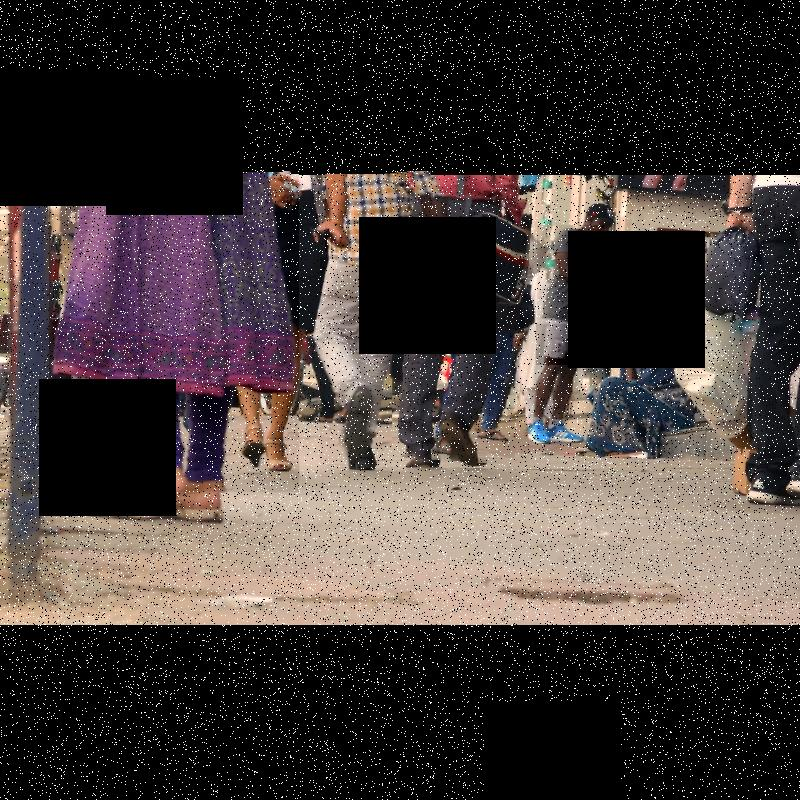Churidaar: (49, 172, 298, 492)
Pant: (389, 193, 529, 463), (320, 257, 392, 477)
Shirt: (325, 172, 430, 252)
Shorts: (536, 323, 608, 365)
Tshirt: (537, 226, 604, 324)
